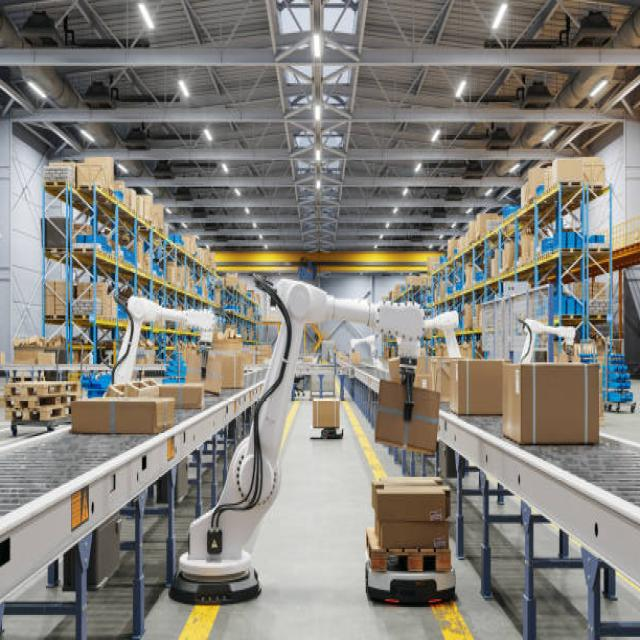Robotic-arm: (180, 274, 432, 600), (108, 293, 220, 401), (518, 313, 578, 372)
